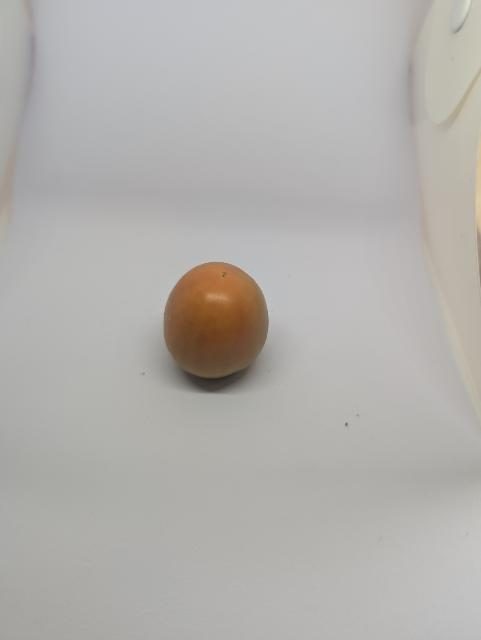turning: (155, 252, 278, 394)
